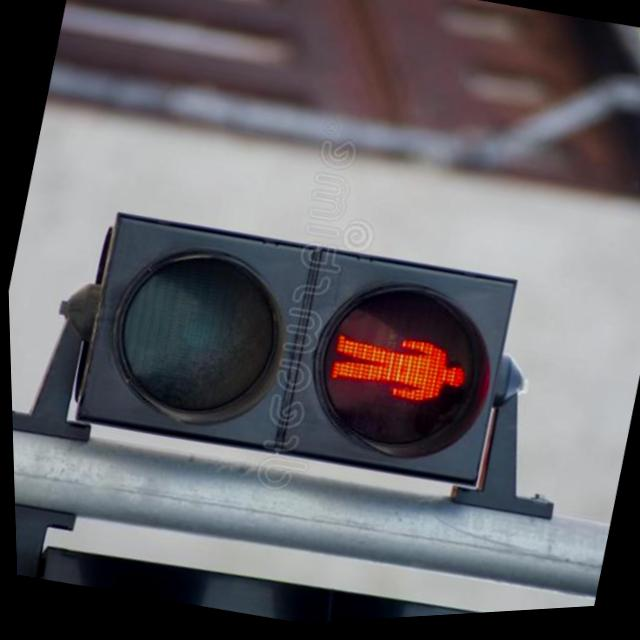red_light: (280, 249, 515, 498)
